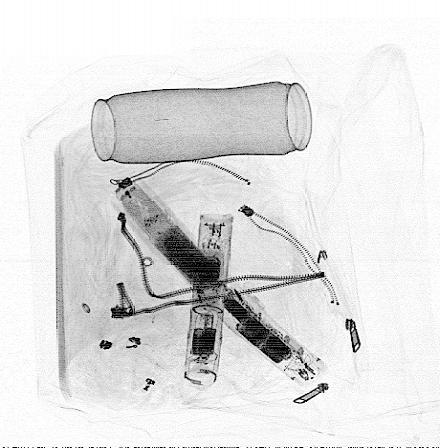Baton: (103, 168, 326, 389), (184, 211, 233, 385)
